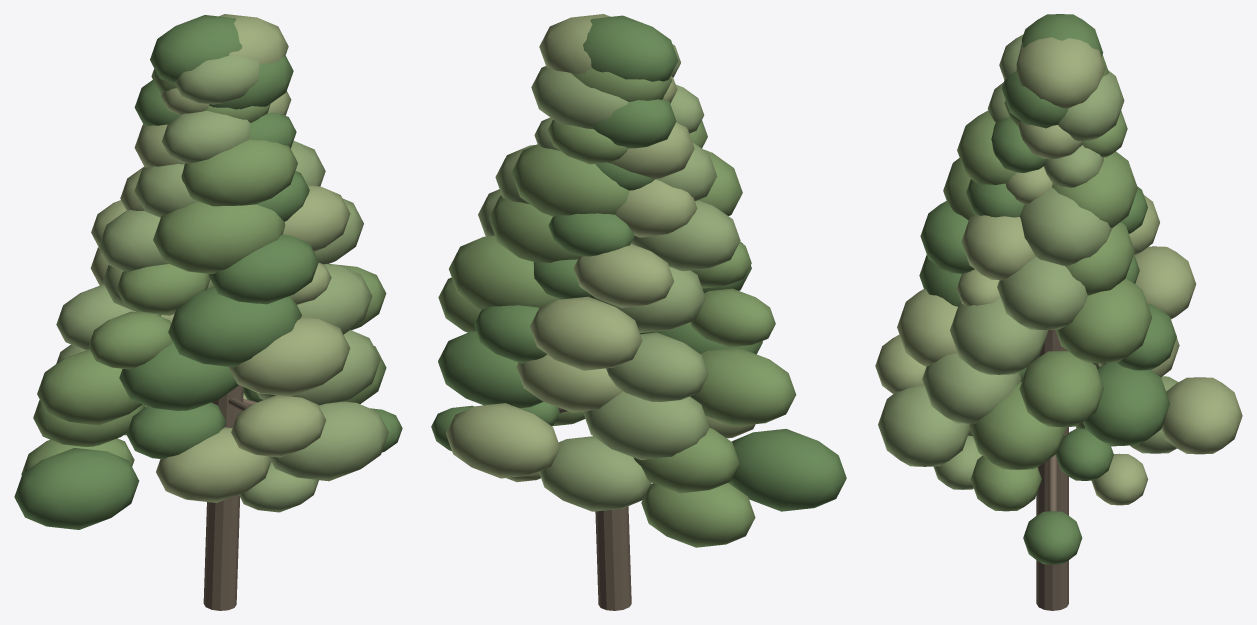
The model's file is district_pine.glb.
The picture shows the model from 3 angles, left to right: view 1: azimuth 30°, elevation 25°; view 2: azimuth 150°, elevation 25°; view 3: azimuth 270°, elevation 25°; orthographic projection.
Parts seen in each view (by area): view 1: leaf0, leaf2, leaf1, leaf3, timber; view 2: leaf1, leaf2, leaf0, leaf3, timber; view 3: leaf2, leaf3, leaf1, leaf0, timber.
Part boxes in pixels (x1,y1,x2,y2): leaf0: (14,15,402,529); leaf2: (56,55,388,512); leaf1: (21,68,386,475); leaf3: (90,14,350,502); timber: (203,385,256,610); leaf1: (438,69,796,547); leaf2: (478,44,740,511); leaf0: (431,15,846,511); leaf3: (446,14,755,482); timber: (558,407,631,610); leaf2: (878,34,1178,489); leaf3: (875,37,1242,505); leaf1: (943,54,1152,511); leaf0: (919,14,1176,564); timber: (1036,329,1068,610).
Bounding box in the file's own units: 5.98 × 8.59 × 4.94.
